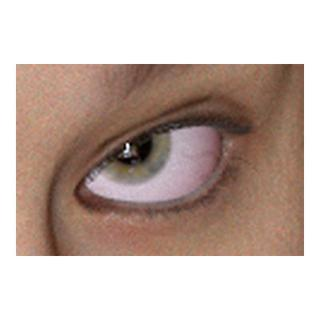pupil: (109, 122, 152, 165)
